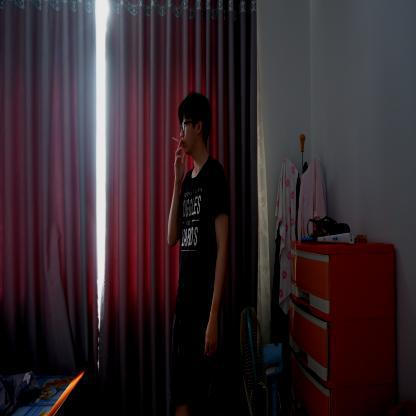cigarette: (172, 136, 180, 144)
person: (165, 90, 231, 415)
